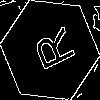R: (25, 25, 77, 77)
